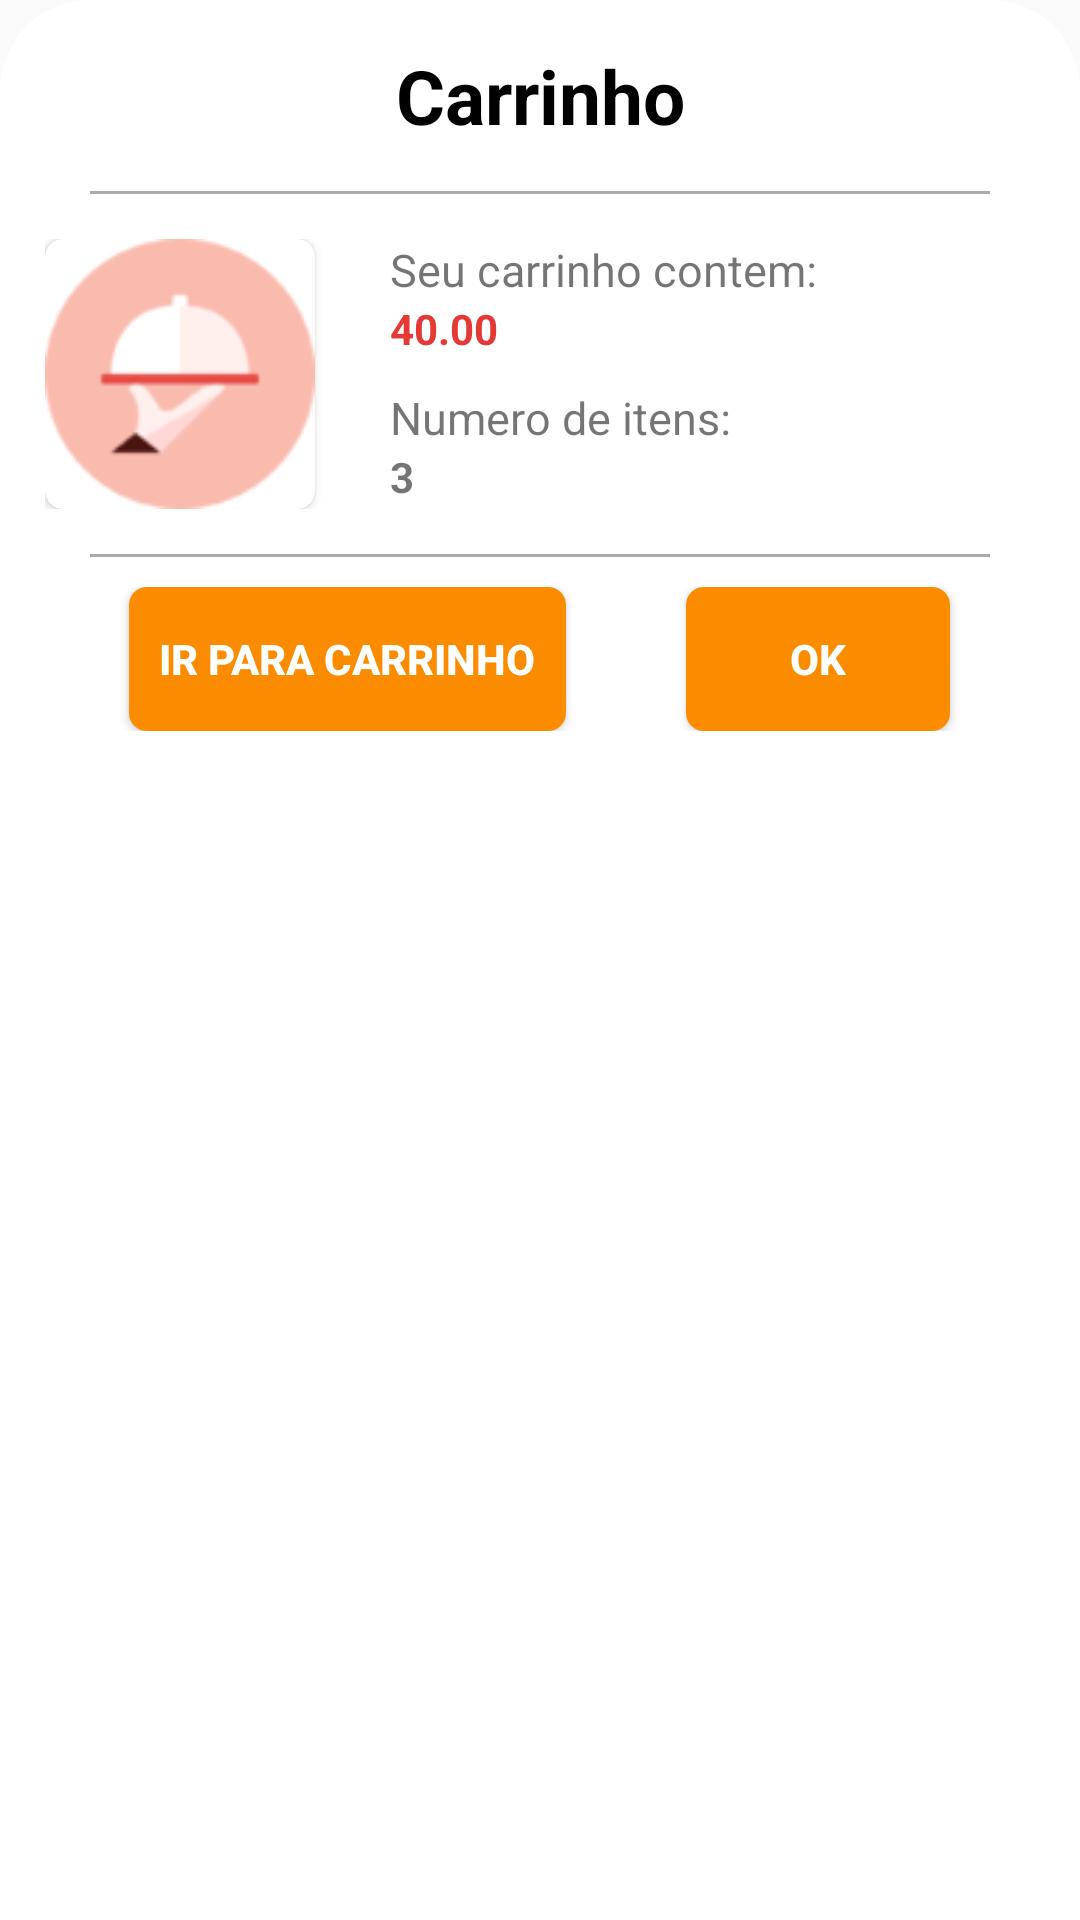

Icon click points for this 1080x1920 phone screenshot, format (x=x, y=y):
fooddome: (x=180, y=374)
